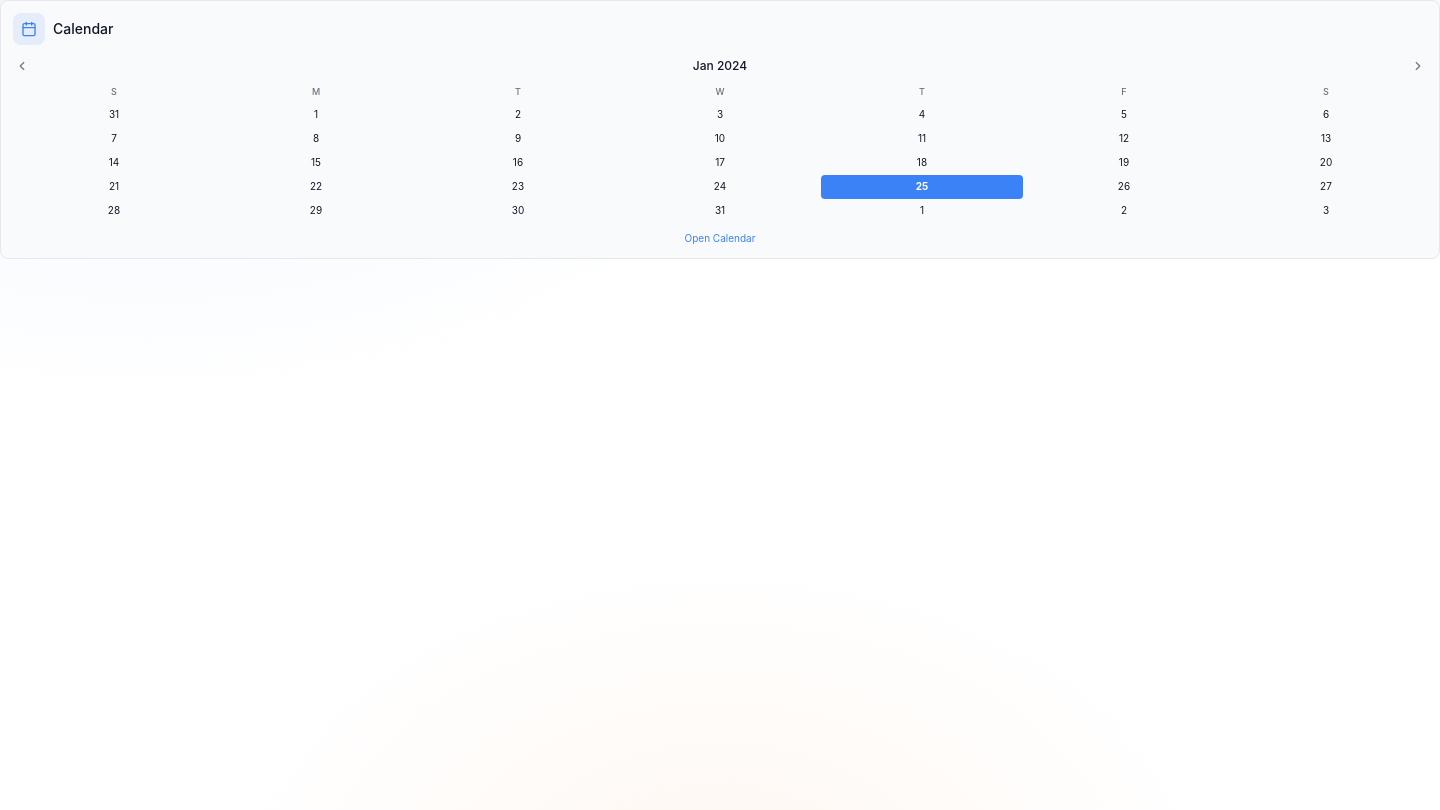
Scenario: MiniCalendar › Month Navigation › goes to previous month when clicking left arrow
Expected: the button "Jan 2024" is shown, left=693, top=58, right=747, bottom=74
Click the 1st button at (22, 66), box left=13, top=57, right=31, bottom=75
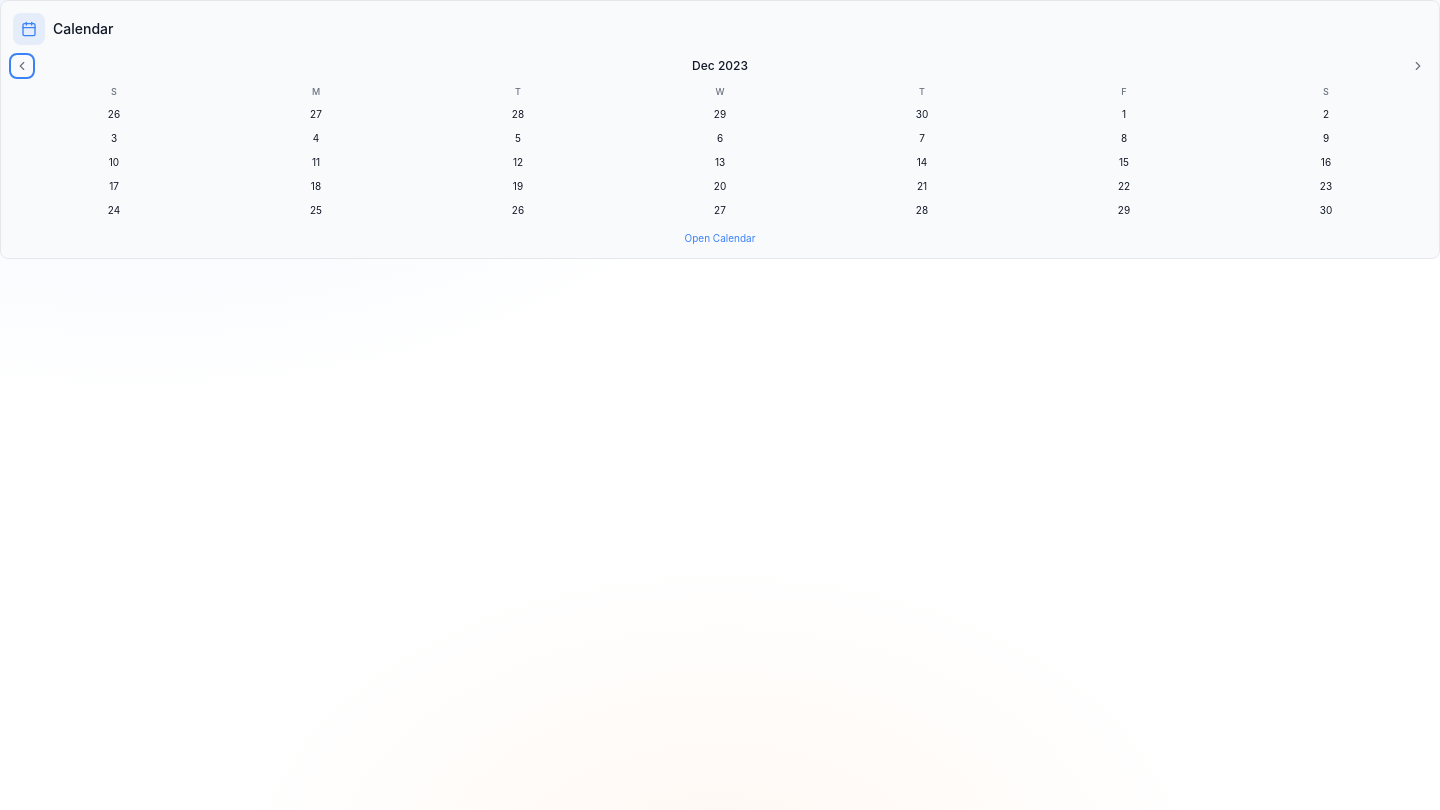
Expected: the button "Dec 2023" is shown, left=692, top=58, right=748, bottom=74
